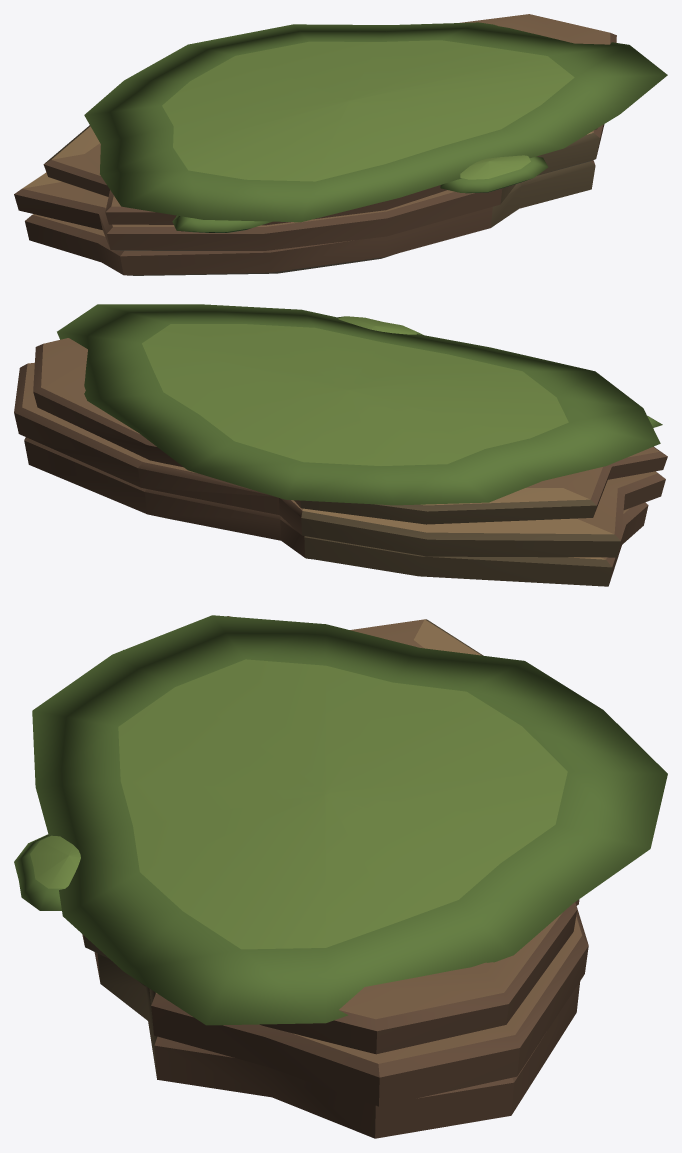
Rendered from fw_terrain_grass_profile.glb.
The picture shows the model from 3 angles, top to bottom: view 1: azimuth 30°, elevation 25°; view 2: azimuth 150°, elevation 25°; view 3: azimuth 270°, elevation 25°; orthographic projection. The views are drawn at different scales.
Parts seen in each view (by area): view 1: body; view 2: body; view 3: body.
Part boxes in pixels (box(x1,y1,x2,y2)): body: box(14, 14, 667, 275); body: box(14, 304, 667, 586); body: box(14, 615, 667, 1138).
Bounding box in the file's own units: 4.27 × 0.65 × 2.62.
